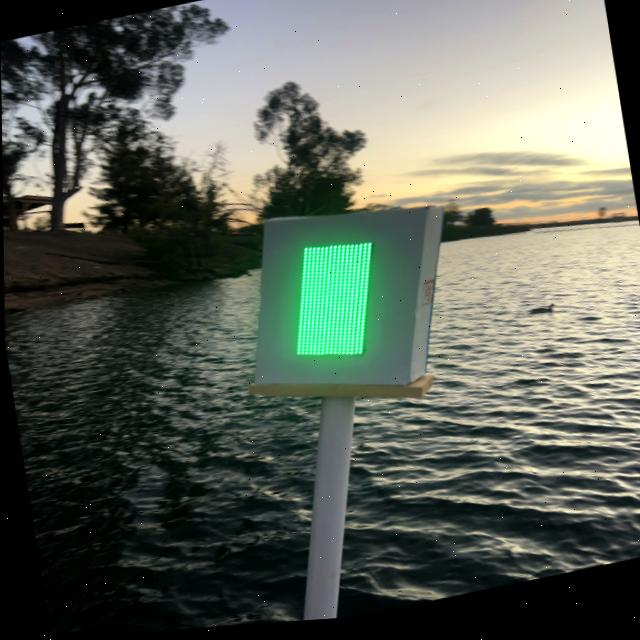led: (262, 213, 407, 395)
